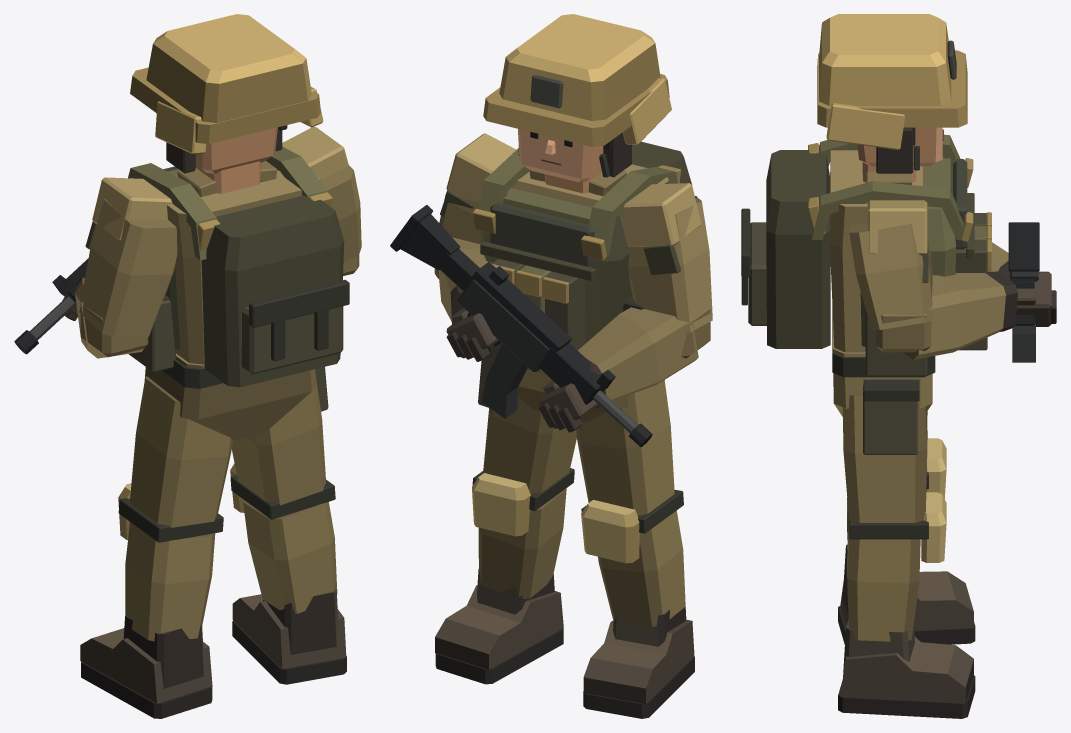
The model's file is recruit.glb.
The picture shows the model from 3 angles, left to right: view 1: azimuth 30°, elevation 25°; view 2: azimuth 150°, elevation 25°; view 3: azimuth 270°, elevation 25°; orthographic projection. The views are drawn at different scales.
Visible parts, largest first — view 1: Backpack_Main, Helmet_Crown, Leg_Thigh_L, Arm_Upper_L, Leg_Shin_L, Leg_Shin_R, Leg_Thigh_R, Uniform_Pelvis, Uniform_Torso, Boot_L_Vamp, Backpack_Rear_Pocket, Helmet_Brim (+26 smaller); view 2: Helmet_Crown, Leg_Thigh_L, Arm_Forearm_L, Leg_Shin_L, Boot_R_Vamp, Leg_Thigh_R, Arm_Upper_L, Boot_L_Vamp, Leg_Shin_R, Vest_Carrier, Helmet_Brim, Vest_Chest_Plate (+39 smaller); view 3: Backpack_Main, Helmet_Crown, Leg_Thigh_R, Leg_Shin_R, Arm_Upper_R, Boot_R_Vamp, Uniform_Torso, Arm_Forearm_R, Vest_Shoulder_Strap_R, Boot_L_Vamp, Thigh_Utility_Pouch_R, Helmet_Brim (+25 smaller).
Boxes of the visible parts, <box> form: Backpack_Main: <box>201,195,344,387</box>; Helmet_Crown: <box>146,14,311,122</box>; Leg_Thigh_L: <box>129,376,232,527</box>; Arm_Upper_L: <box>79,199,177,337</box>; Leg_Shin_L: <box>125,522,215,641</box>; Leg_Shin_R: <box>243,500,337,613</box>; Leg_Thigh_R: <box>232,376,325,505</box>; Uniform_Pelvis: <box>144,353,316,440</box>; Uniform_Torso: <box>167,170,320,364</box>; Boot_L_Vamp: <box>80,628,212,703</box>; Backpack_Rear_Pocket: <box>241,306,343,374</box>; Helmet_Brim: <box>130,67,320,143</box>; Helmet_Crown: <box>499,14,660,120</box>; Leg_Thigh_L: <box>576,380,674,515</box>; Arm_Forearm_L: <box>578,307,698,400</box>; Leg_Shin_L: <box>598,510,685,626</box>; Boot_R_Vamp: <box>435,585,563,669</box>; Leg_Thigh_R: <box>483,397,576,493</box>; Arm_Upper_L: <box>628,198,712,333</box>; Boot_L_Vamp: <box>583,619,694,704</box>; Leg_Shin_R: <box>478,488,566,598</box>; Vest_Carrier: <box>480,188,632,342</box>; Helmet_Brim: <box>483,74,669,146</box>; Vest_Chest_Plate: <box>490,202,595,267</box>; Backpack_Main: <box>766,150,830,348</box>; Helmet_Crown: <box>819,14,951,105</box>; Leg_Thigh_R: <box>842,394,927,522</box>; Leg_Shin_R: <box>847,526,920,641</box>; Arm_Upper_R: <box>849,222,933,329</box>; Boot_R_Vamp: <box>840,636,973,703</box>; Uniform_Torso: <box>830,150,924,352</box>; Arm_Forearm_R: <box>903,273,1005,359</box>; Vest_Shoulder_Strap_R: <box>811,181,963,239</box>; Boot_L_Vamp: <box>840,571,973,630</box>; Thigh_Utility_Pouch_R: <box>863,385,917,454</box>; Helmet_Brim: <box>817,50,967,127</box>.
Size of the model in its own units: 0.9067 by 2.03 by 0.9169.
